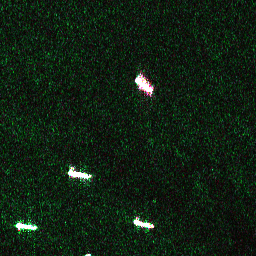ship: (132, 72, 155, 94), (130, 216, 157, 231), (65, 167, 93, 181), (13, 219, 39, 233)
